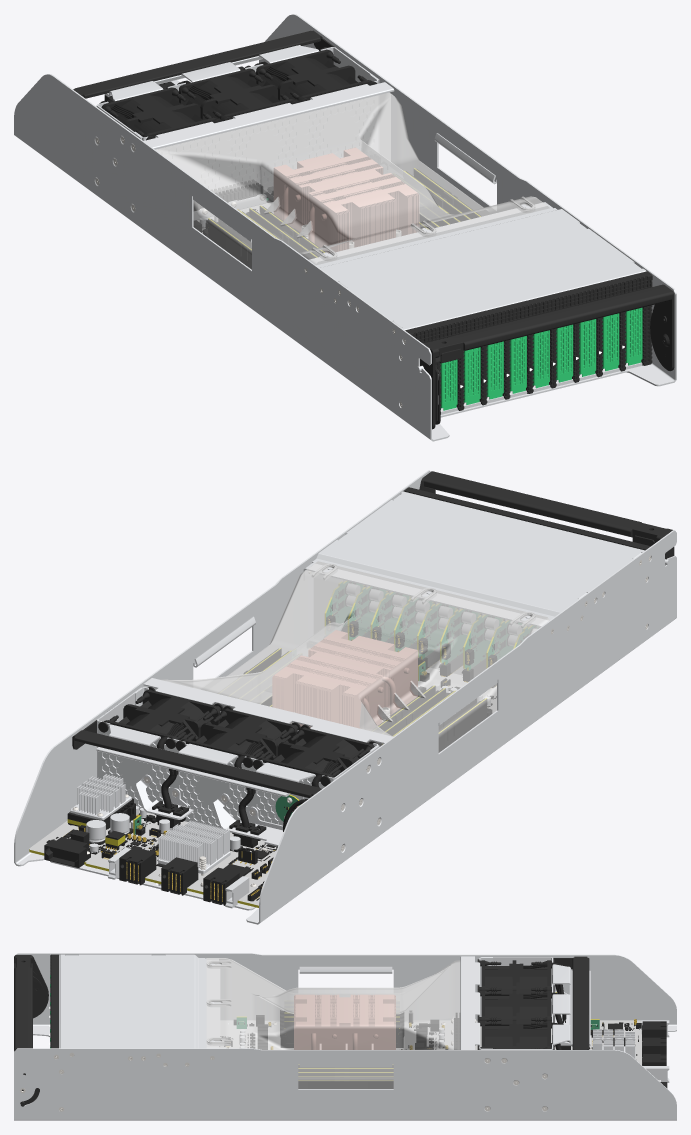
Rendered from cosmo-all.glb.
3 views of the same model, one above another, from view 1: azimuth 30°, elevation 25°; view 2: azimuth 150°, elevation 25°; view 3: azimuth 270°, elevation 25° (orthographic). The views are drawn at different scales.
Parts seen in each view (by area): view 1: CMP-002-00201-2_AMPHENOL_PSAS5F2130021TR.010, Frame_low.004_block.006, Cube.080, Cube.124, FHMS M3x6 NYPA.008, Plane.017; view 2: CMP-002-00201-2_AMPHENOL_PSAS5F2130021TR.010, Cube.080, Frame_low.004_block.006, Cube.124, FHMS M3x6 NYPA.008, Cosmo_Sharkfin_BOARD.011, PCB.001, CMP-00533-16_CAPAE7366X80N.024, M3x0.5_Torx_Steel.041, All the Cubes.6400; view 3: CMP-002-00201-2_AMPHENOL_PSAS5F2130021TR.010, Frame_low.004_block.006, Cube.080, Cube.124, FHMS M3x6 NYPA.008, PCB.001, CMP-00533-16_CAPAE7366X80N.024, M3x0.5_Torx_Steel.041, Cosmo_Sharkfin_BOARD.011.
Boxes of the visible parts, x1,y1,x2,y2 form: CMP-002-00201-2_AMPHENOL_PSAS5F2130021TR.010: [14, 14, 676, 441]; Frame_low.004_block.006: [155, 92, 624, 387]; Cube.080: [96, 45, 646, 330]; Cube.124: [99, 47, 481, 269]; FHMS M3x6 NYPA.008: [73, 30, 674, 429]; Plane.017: [440, 307, 642, 410]; CMP-002-00201-2_AMPHENOL_PSAS5F2130021TR.010: [14, 470, 676, 924]; Cube.080: [70, 491, 644, 908]; Frame_low.004_block.006: [153, 561, 549, 752]; Cube.124: [44, 582, 536, 905]; FHMS M3x6 NYPA.008: [72, 471, 674, 798]; Cosmo_Sharkfin_BOARD.011: [67, 581, 534, 846]; PCB.001: [29, 661, 496, 907]; CMP-00533-16_CAPAE7366X80N.024: [79, 591, 526, 831]; M3x0.5_Torx_Steel.041: [72, 555, 651, 886]; All the Cubes.6400: [63, 615, 494, 901]; CMP-002-00201-2_AMPHENOL_PSAS5F2130021TR.010: [14, 953, 676, 1120]; Frame_low.004_block.006: [49, 958, 460, 1088]; Cube.080: [59, 954, 669, 1082]; Cube.124: [220, 959, 667, 1088]; FHMS M3x6 NYPA.008: [14, 954, 589, 1106]; PCB.001: [219, 1020, 659, 1081]; CMP-00533-16_CAPAE7366X80N.024: [439, 963, 566, 1049]; M3x0.5_Torx_Steel.041: [19, 1014, 635, 1111]; Cosmo_Sharkfin_BOARD.011: [237, 992, 599, 1072].
Bounding box in the file's own units: 0.2659 × 0.0928 × 0.765.
